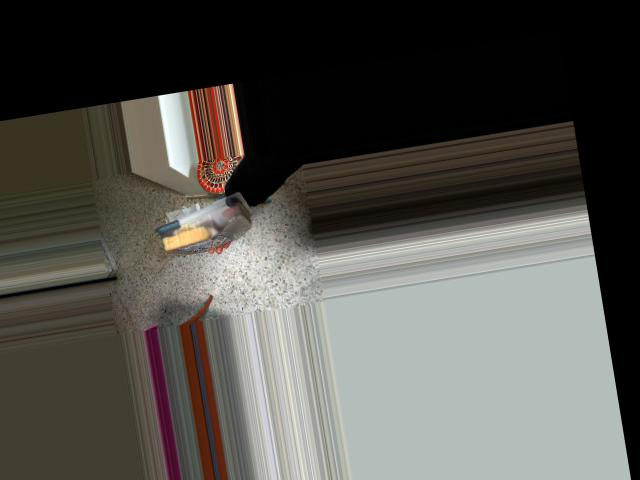cheese: (151, 187, 254, 260)
